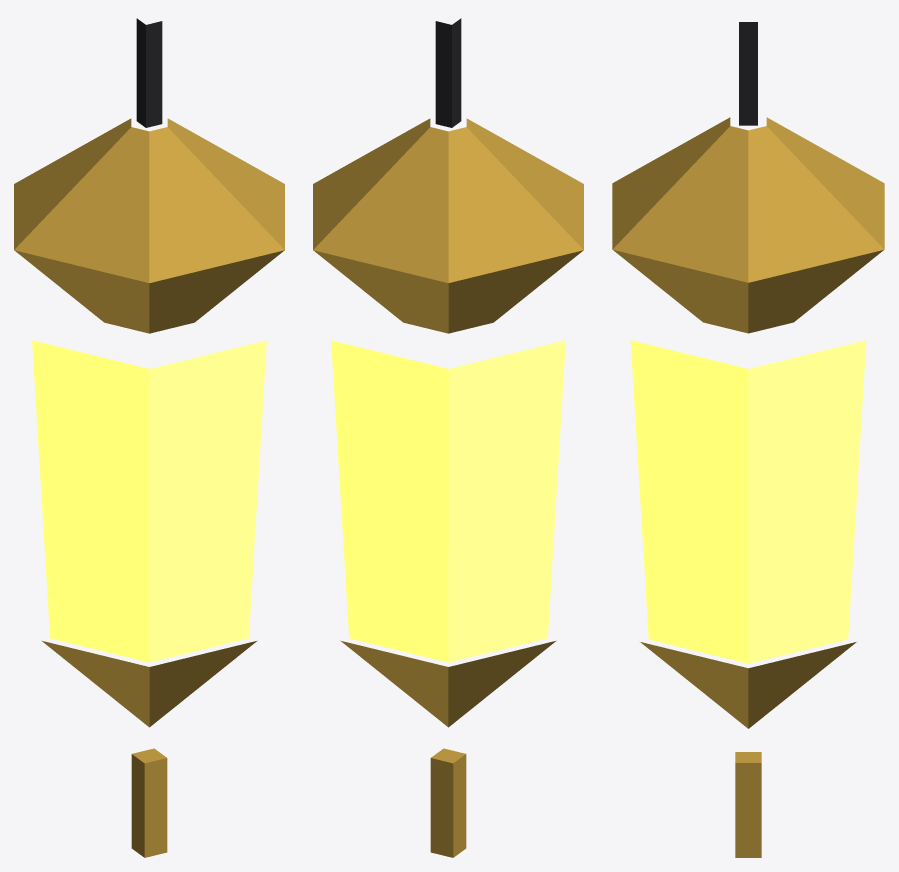
The model's file is lantern_hanging_medina.glb.
3 renders of one model, left to right at view 1: azimuth 30°, elevation 25°; view 2: azimuth 150°, elevation 25°; view 3: azimuth 270°, elevation 25°, orthographic.
Visible parts, largest first — view 1: lantern_hanging_medina; view 2: lantern_hanging_medina; view 3: lantern_hanging_medina.
Boxes of the visible parts, <box> form: lantern_hanging_medina: <box>14,18,284,857</box>; lantern_hanging_medina: <box>313,18,583,857</box>; lantern_hanging_medina: <box>612,22,884,857</box>.
Bounding box in the file's own units: 0.33 × 0.967 × 0.2858.
